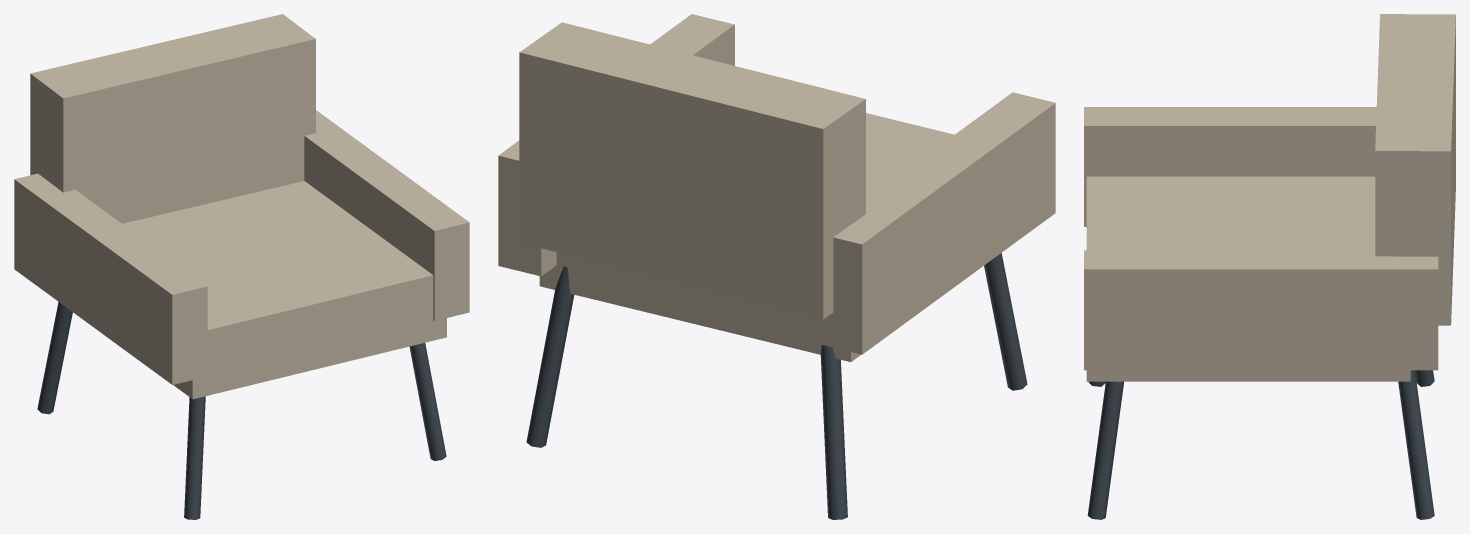
File: armchair-1.glb
3 renders of one model, left to right at view 1: azimuth 30°, elevation 25°; view 2: azimuth 150°, elevation 25°; view 3: azimuth 270°, elevation 25°, orthographic. The views are drawn at different scales.
Parts seen in each view (by area): view 1: armchair:1:editor; view 2: armchair:1:editor; view 3: armchair:1:editor.
Boxes of the visible parts, x1=… form: armchair:1:editor: x1=14, y1=14, x2=469, y2=519; armchair:1:editor: x1=498, y1=14, x2=1055, y2=519; armchair:1:editor: x1=1084, y1=14, x2=1455, y2=519.
Size of the model in its own units: 0.76 by 0.8031 by 0.7348.
